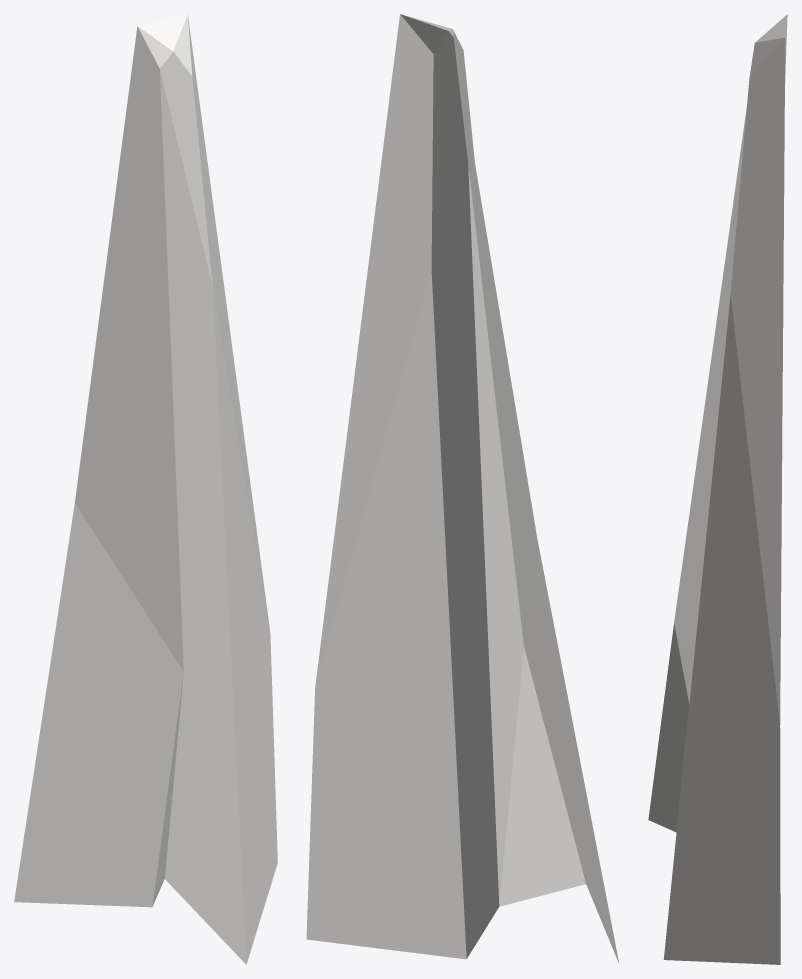
The model's file is Towel_7.fbx.
3 renders of one model, left to right at view 1: azimuth 30°, elevation 25°; view 2: azimuth 150°, elevation 25°; view 3: azimuth 270°, elevation 25°, orthographic. The views are drawn at different scales.
Parts seen in each view (by area): view 1: Towel_7; view 2: Towel_7; view 3: Towel_7.
Part boxes in pixels (box(x1,y1,x2,y2)): Towel_7: box(14, 14, 277, 964); Towel_7: box(306, 14, 619, 963); Towel_7: box(648, 14, 787, 964).
Size of the model in its own units: 49.55 by 21.36 by 156.
